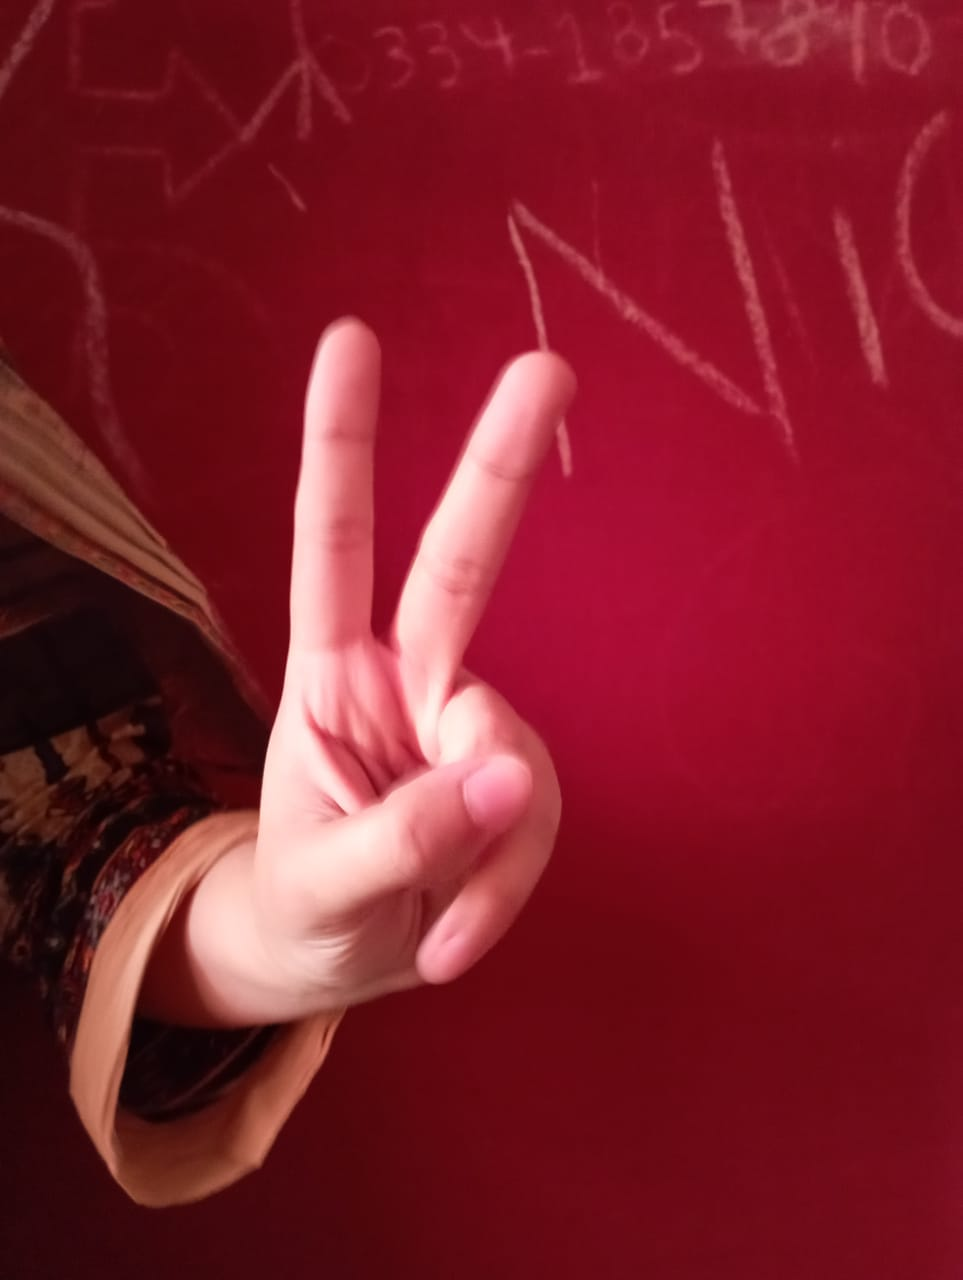Peace: (242, 306, 593, 1012)
